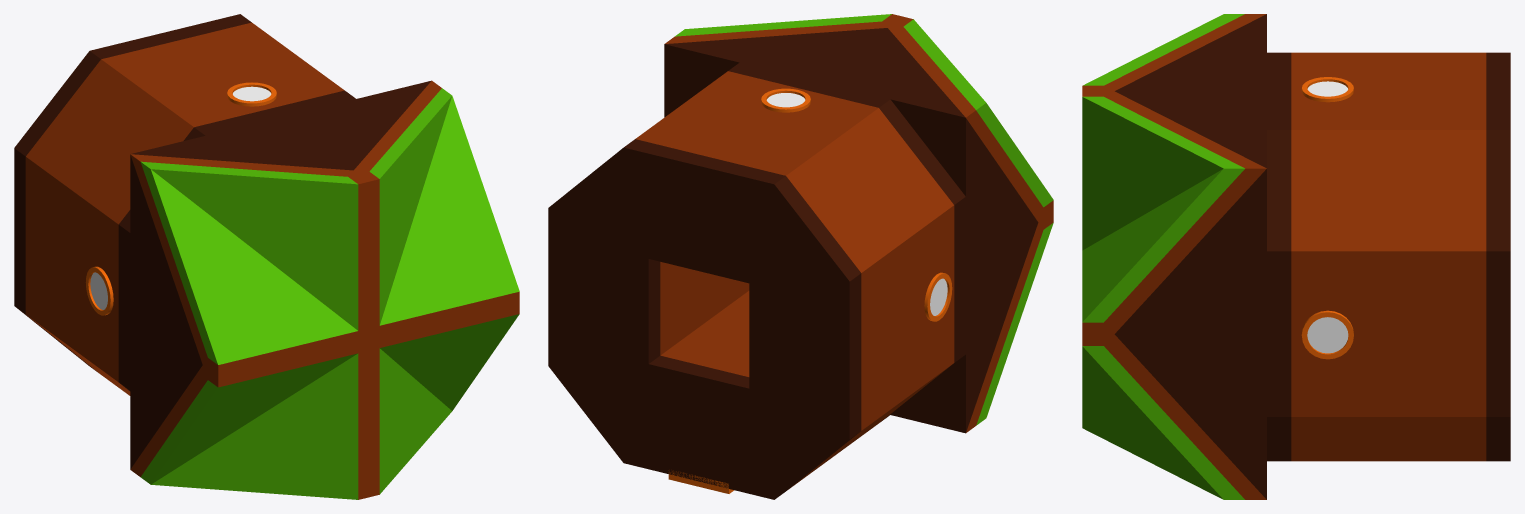
Rendered from House1.fbx.
3 views of the same model, side by side, from view 1: azimuth 30°, elevation 25°; view 2: azimuth 150°, elevation 25°; view 3: azimuth 270°, elevation 25° (orthographic). The views are drawn at different scales.
Parts seen in each view (by area): view 1: mergedBlocks; view 2: mergedBlocks; view 3: mergedBlocks.
Part boxes in pixels (x1,y1,x2,y2): mergedBlocks: (14,14,519,499); mergedBlocks: (548,14,1053,499); mergedBlocks: (1082,14,1510,499).
Size of the model in its own units: 3.06 by 3.1 by 3.52.
